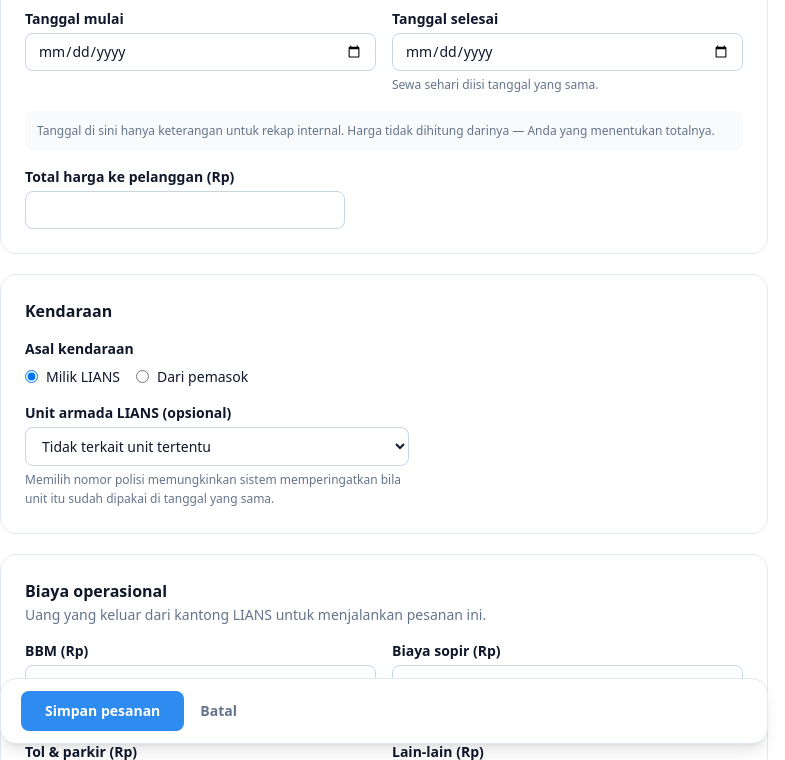
it: ManualBookingForm — biaya operasional › tetap menampilkan biaya operasional saat kendaraannya dari pemasok
(page scrolled)
Click the radio button labelled "Dari pemasok".
click(142, 376)  # box [136,370,149,383]
(page scrolled)
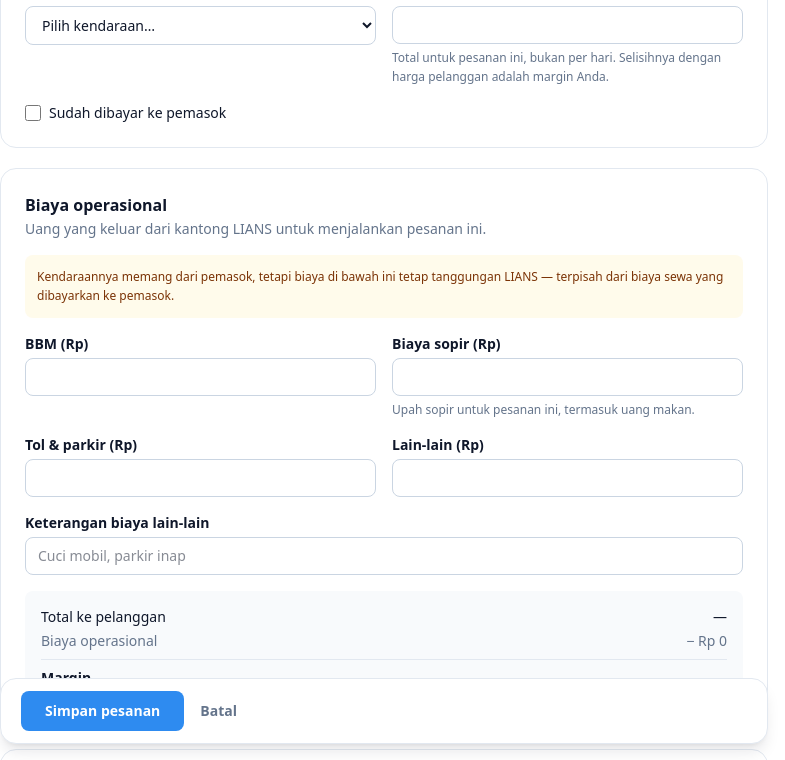
Check: the number field labelled "BBM (Rp)" is shown, box [25,358,376,396]
Check: the number field labelled "Biaya ke pemasok" is shown, box [392,6,743,44]
